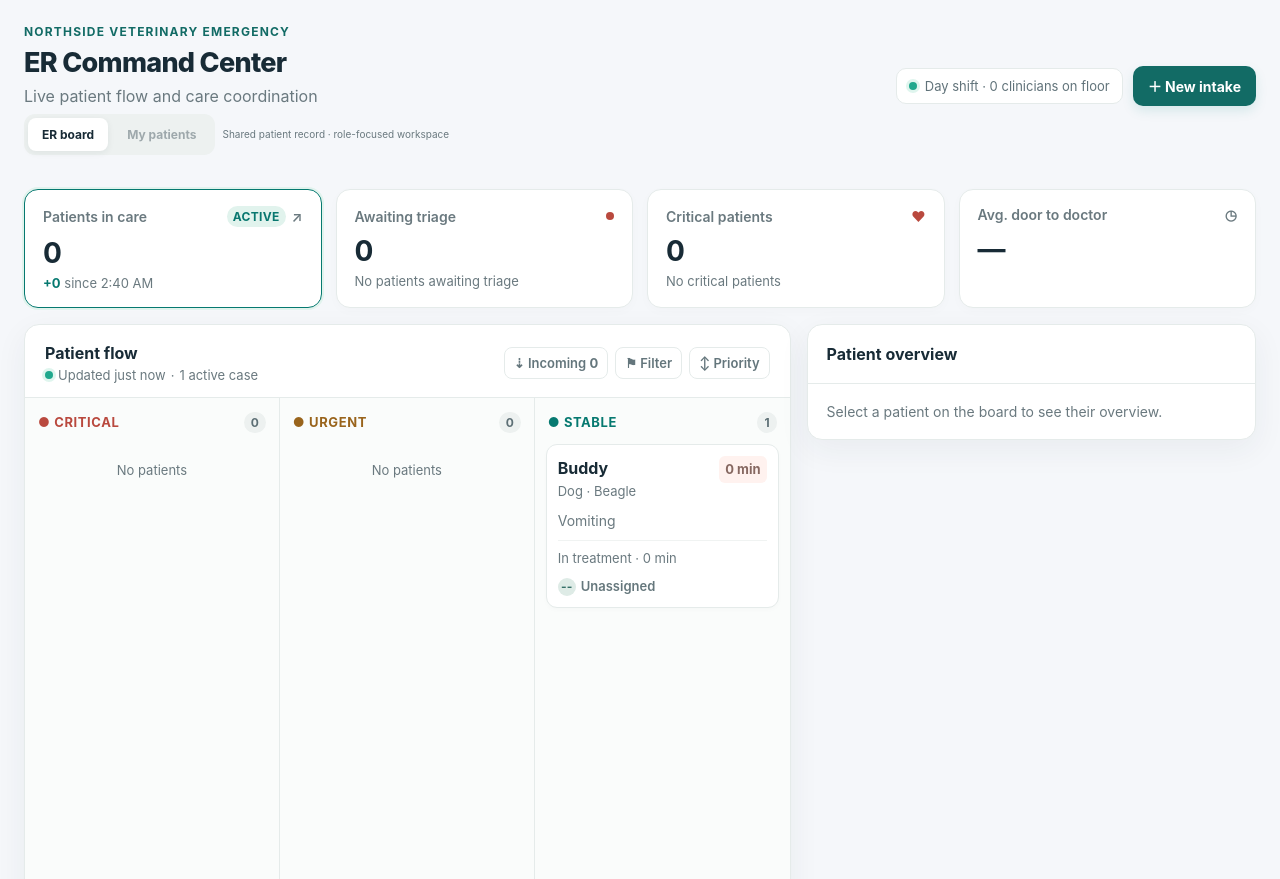
ErBoardPage › shows the selected card's case in the patient overview
Expected: the text "Select a patient on the board to see their overview." is shown, [827,403,1162,420]
Click the button "Buddy": point(583, 468) [558,456,608,480]
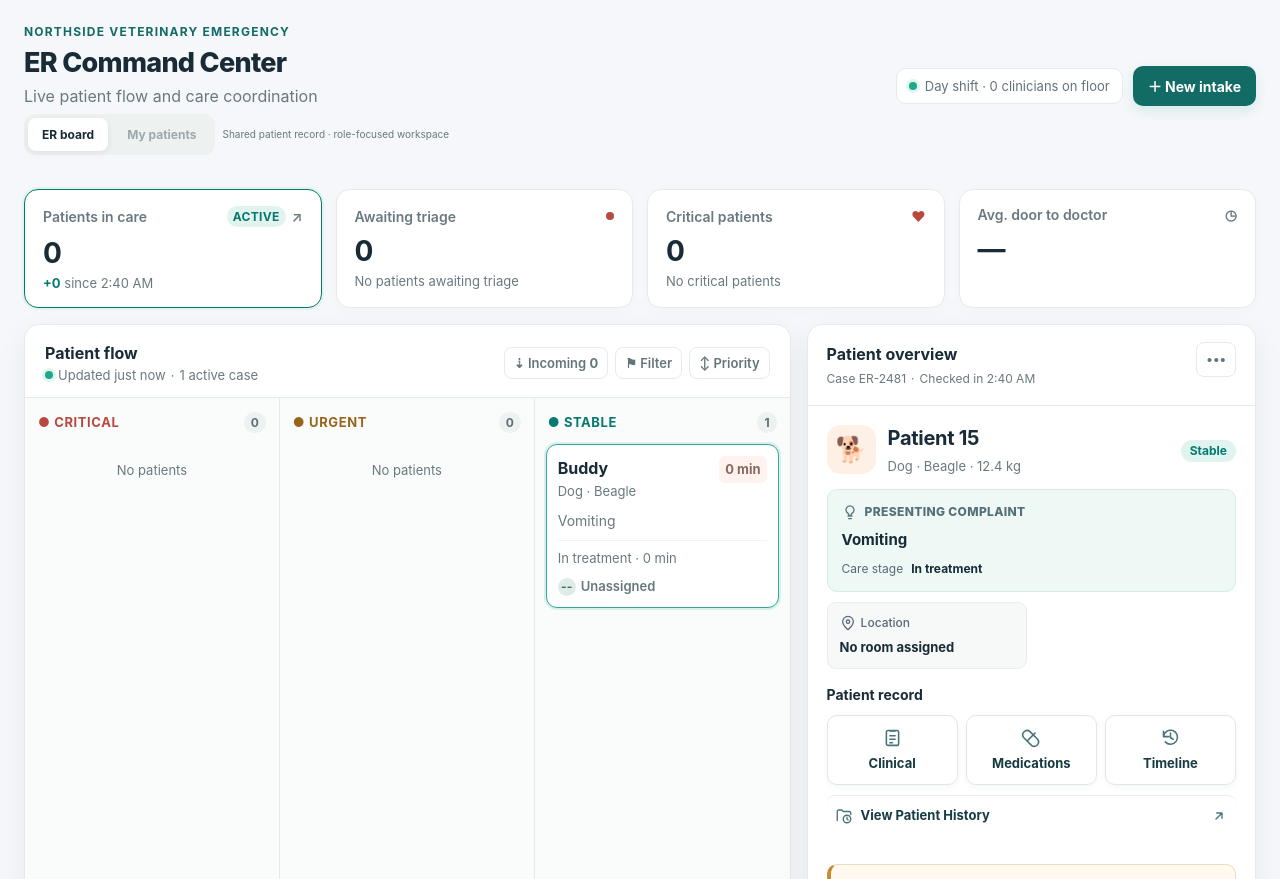
Now the text "Case ER-2481·Checked in 2:40 AM" is shown, box [827,370,1035,388]
